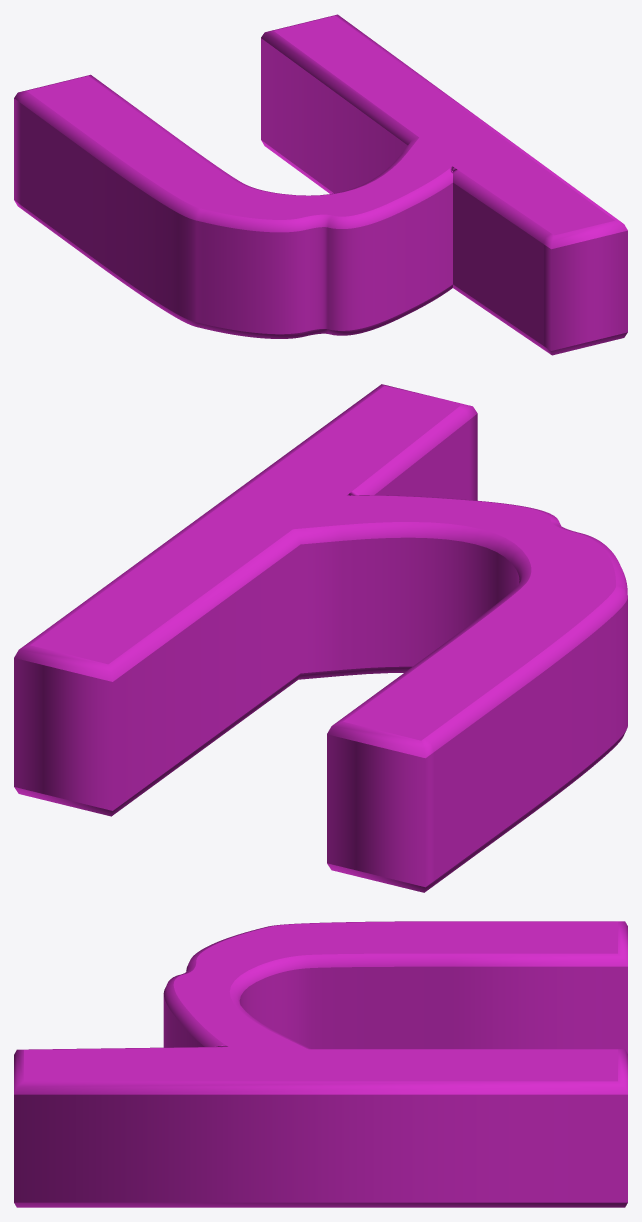
The model's file is Blocky_Letter_h.fbx.
3 renders of one model, top to bottom at view 1: azimuth 30°, elevation 25°; view 2: azimuth 150°, elevation 25°; view 3: azimuth 270°, elevation 25°, orthographic. The views are drawn at different scales.
Parts seen in each view (by area): view 1: BlockyLetter_h; view 2: BlockyLetter_h; view 3: BlockyLetter_h.
Part boxes in pixels (x1,y1,x2,y2): BlockyLetter_h: (14,14,627,355); BlockyLetter_h: (14,384,627,892); BlockyLetter_h: (14,921,627,1207).
Bounding box in the file's own units: 0.4007 × 0.14 × 0.618.
